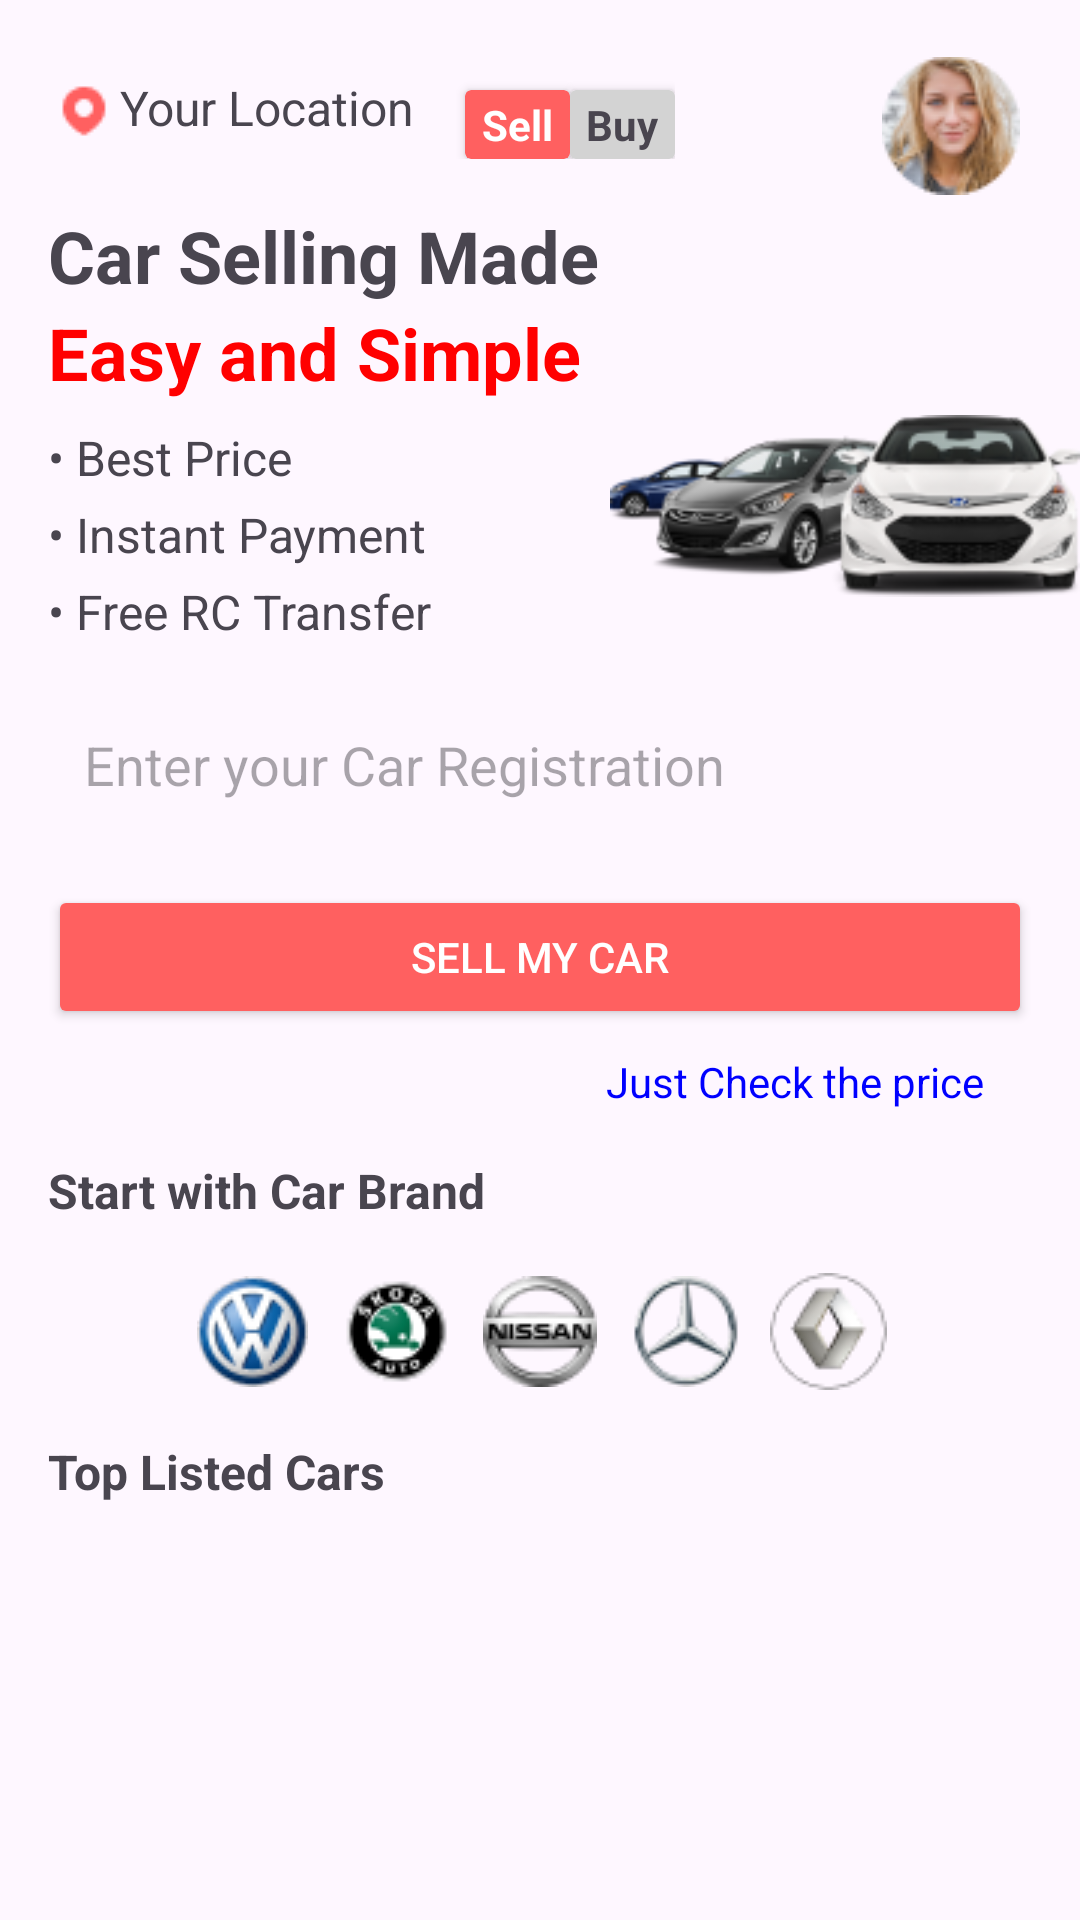

Screen size 1080 × 1920. Icon name, then its box in pixels as box(x1, y1, x2, y2):
face: box(882, 57, 1020, 195)
